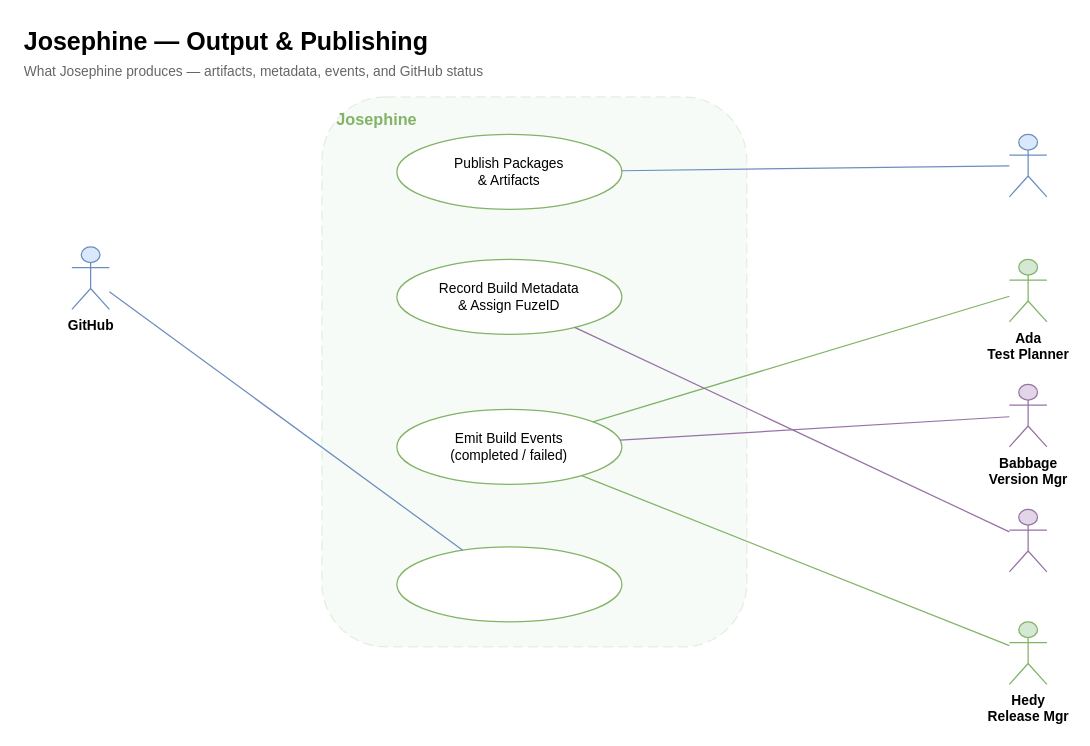
This 1090x746 diagram has some shape labels left out. Here are the shapes that lost their labels. From the top down, the centre of each, then its label:
the point at 1027,165: Artifact Store
the point at 1027,540: Linnaeus Traceability
the point at 509,584: Post Build Status to GitHub
